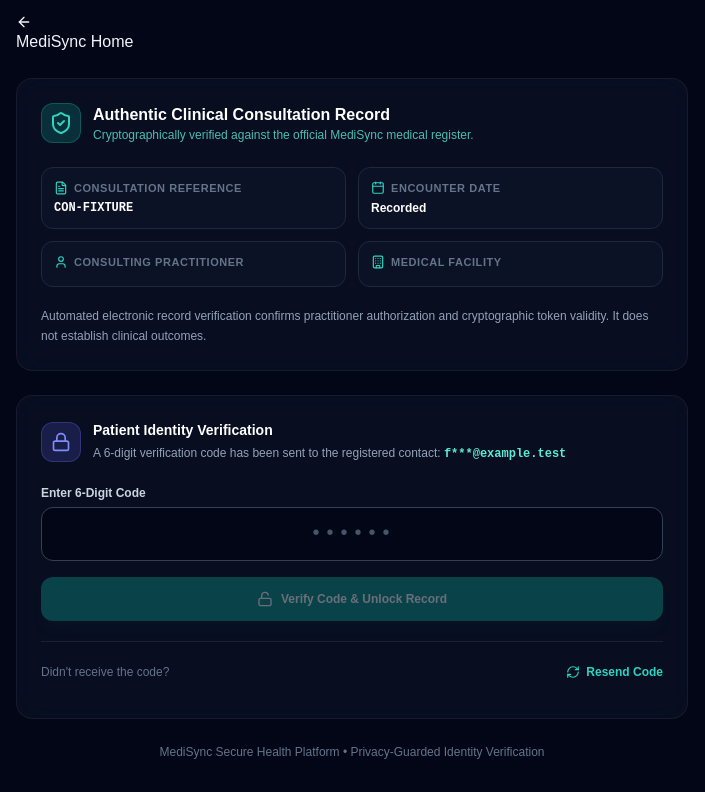
Scenario: A5: OTP request lock and spinner › "Verifying & Unlocking" always ends: spinner stops and the message shows after a timeout
In the field with placeholder "••••••": {"x": 352, "y": 534} x1=41 y1=506 x2=663 y2=560, type "123456"
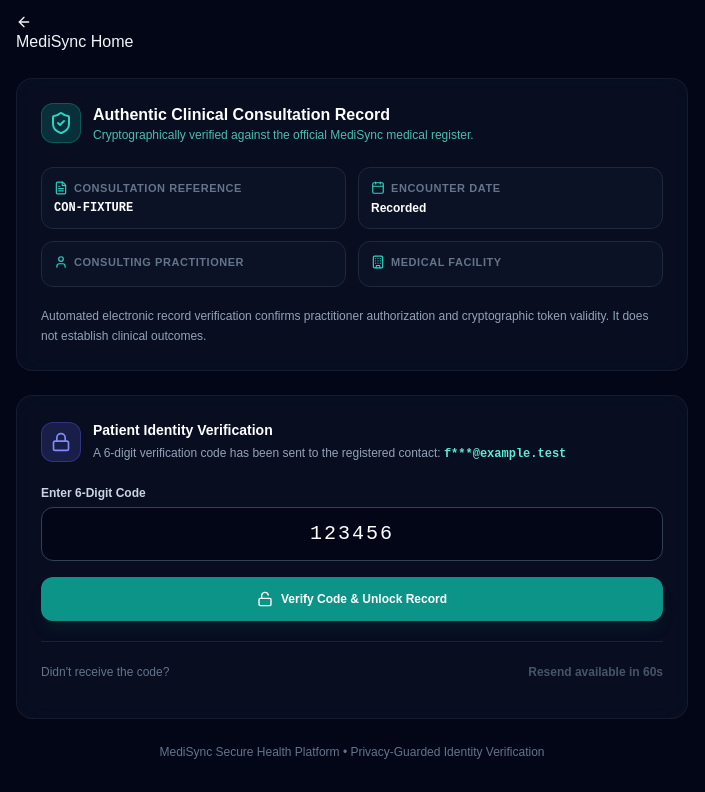
Submit the form with placeholder "••••••", box x1=41 y1=484 x2=663 y2=620
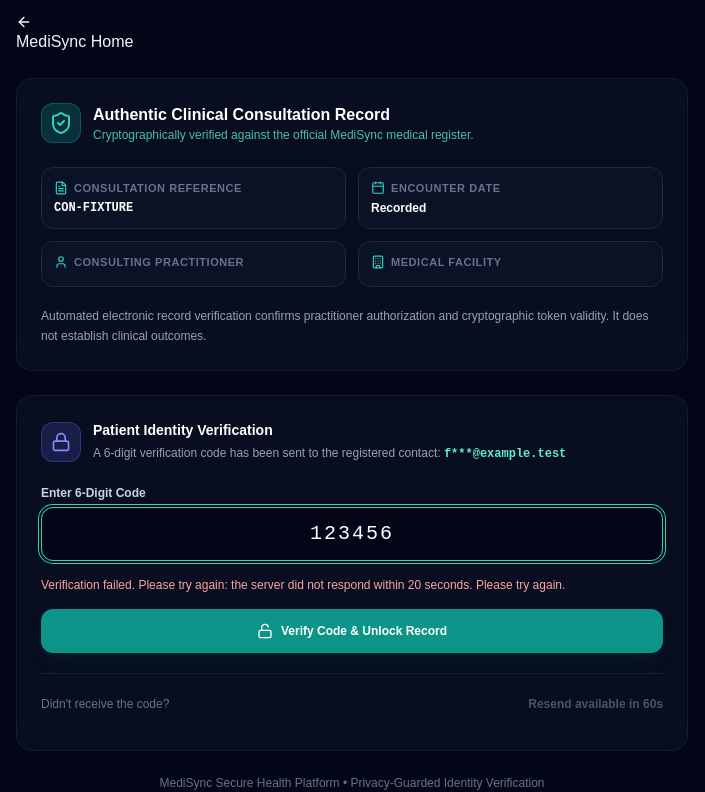
Now the message with test id "otp-inline-error" shows "the server did not respond within 20 seconds", box x1=41 y1=578 x2=565 y2=592
